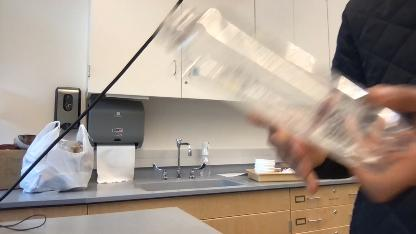Plastic Bottle: (169, 8, 415, 178)
